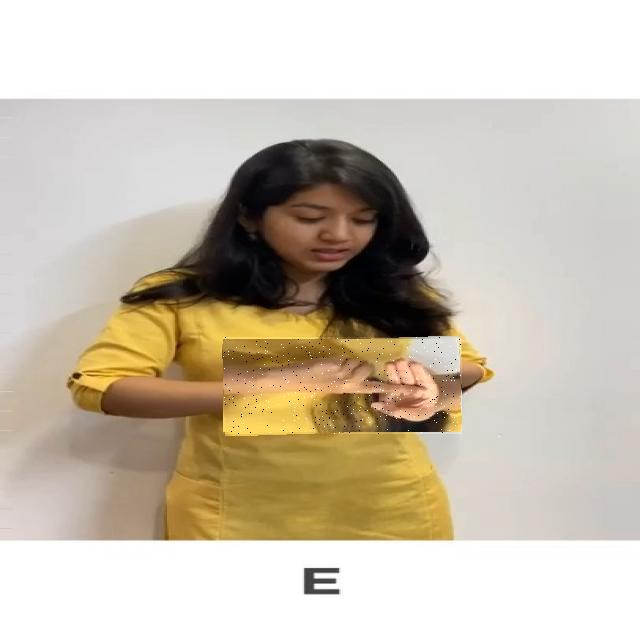E: (223, 337, 462, 434)
